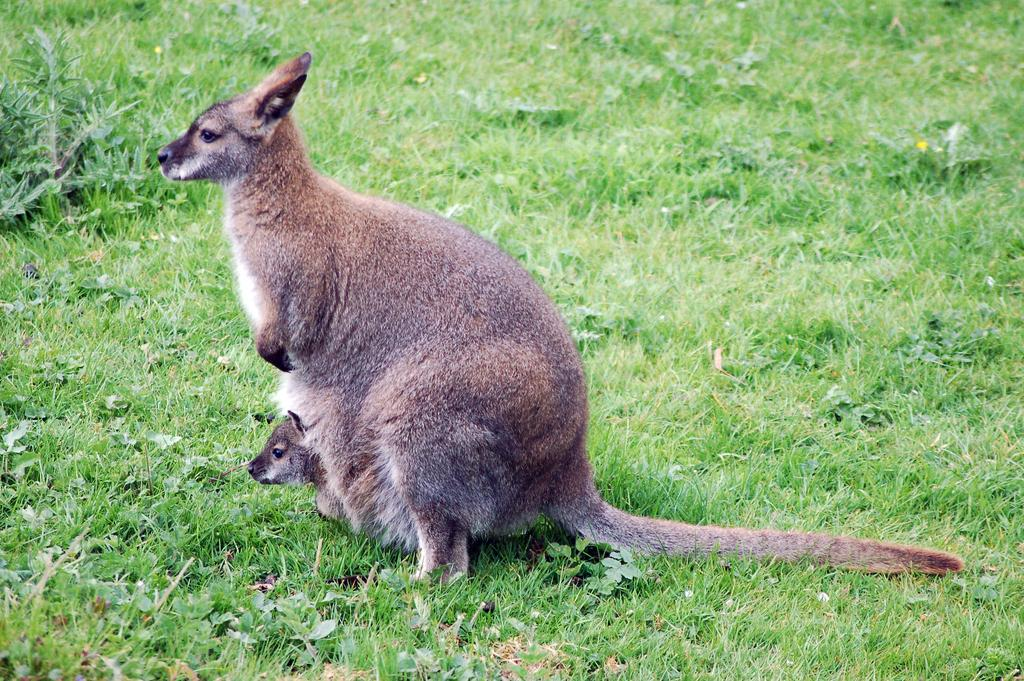kangaroo: (154, 52, 960, 589), (246, 408, 302, 498)
